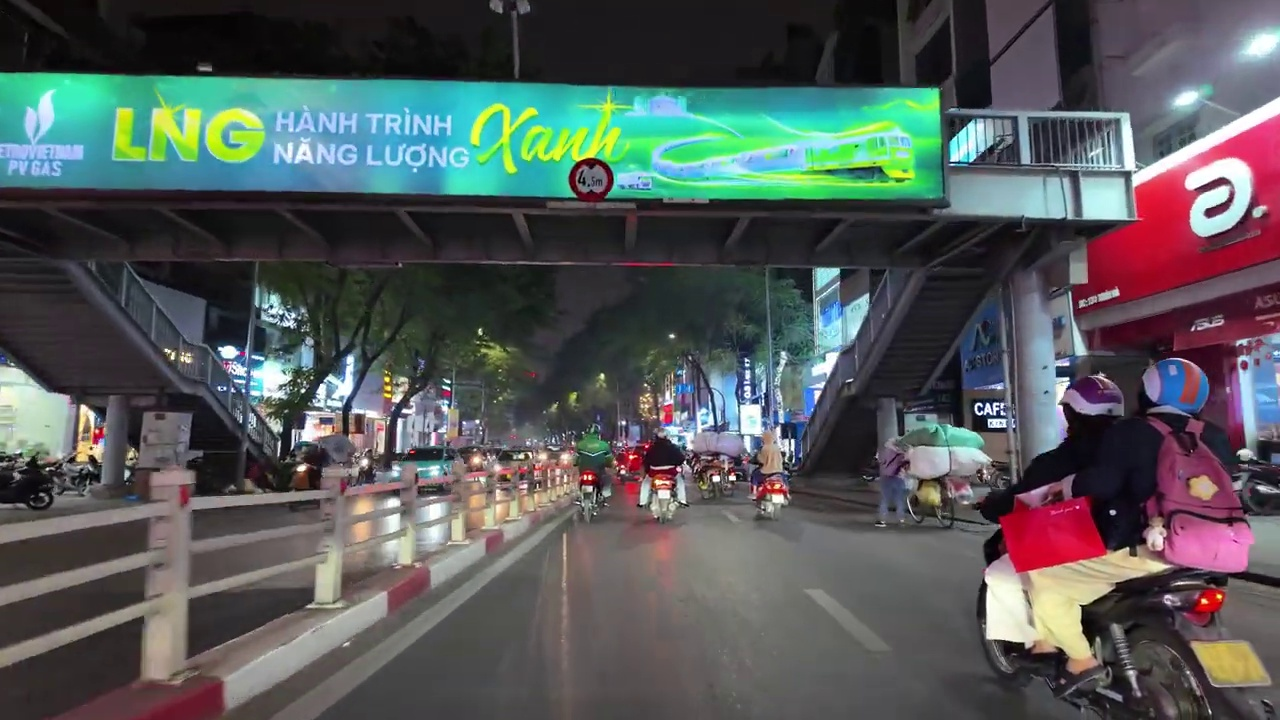acesa: (1247, 28, 1279, 57), (1172, 88, 1197, 109)
